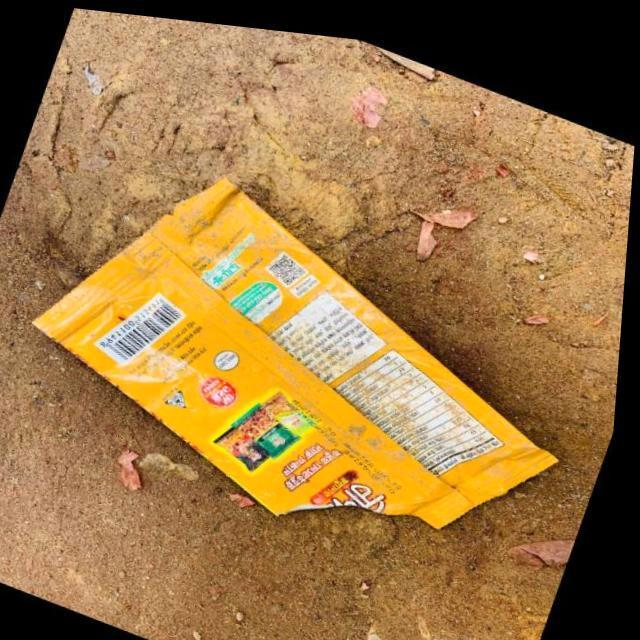packet: (34, 135, 566, 626)
